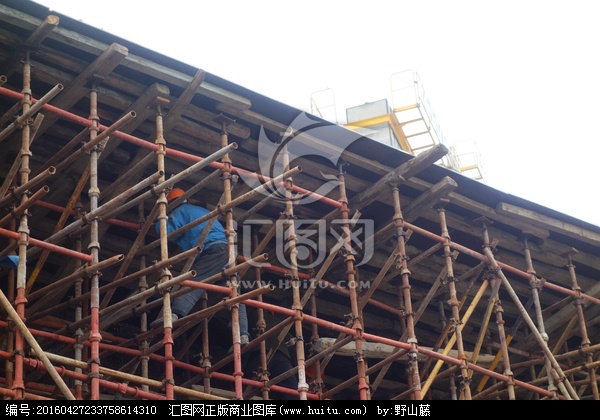yellow: (165, 185, 188, 209)
